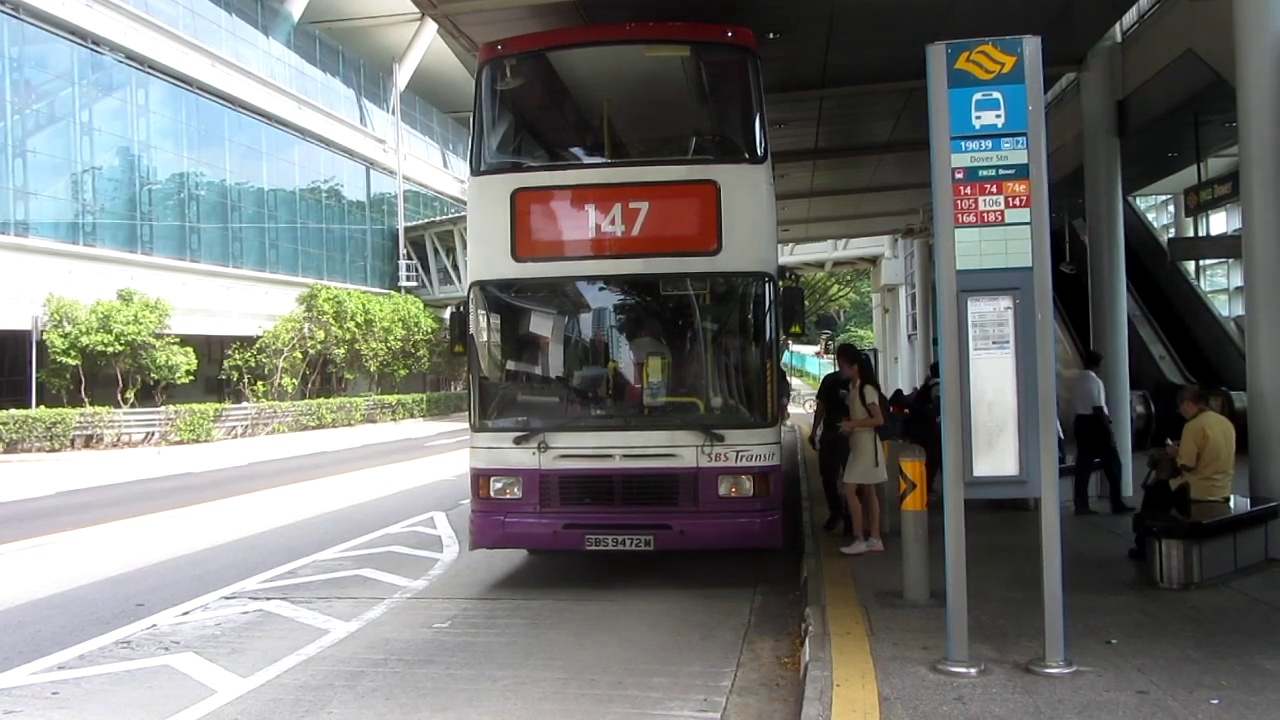bus panel: (507, 177, 725, 264)
